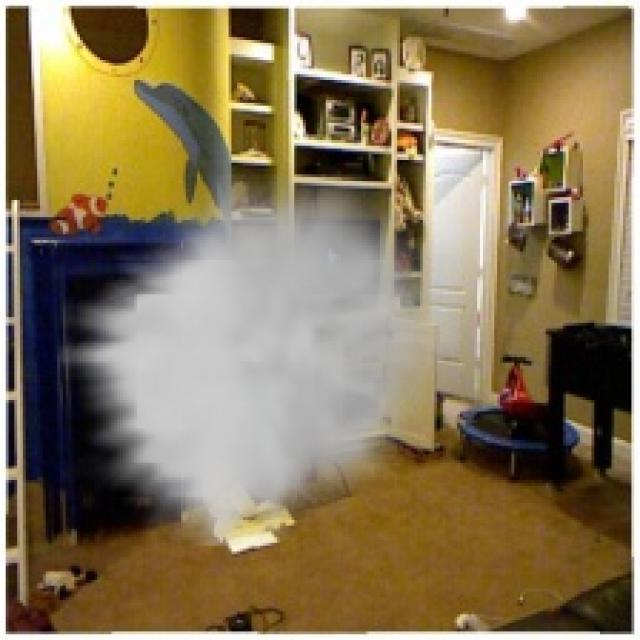Smoke: (60, 174, 460, 546)
